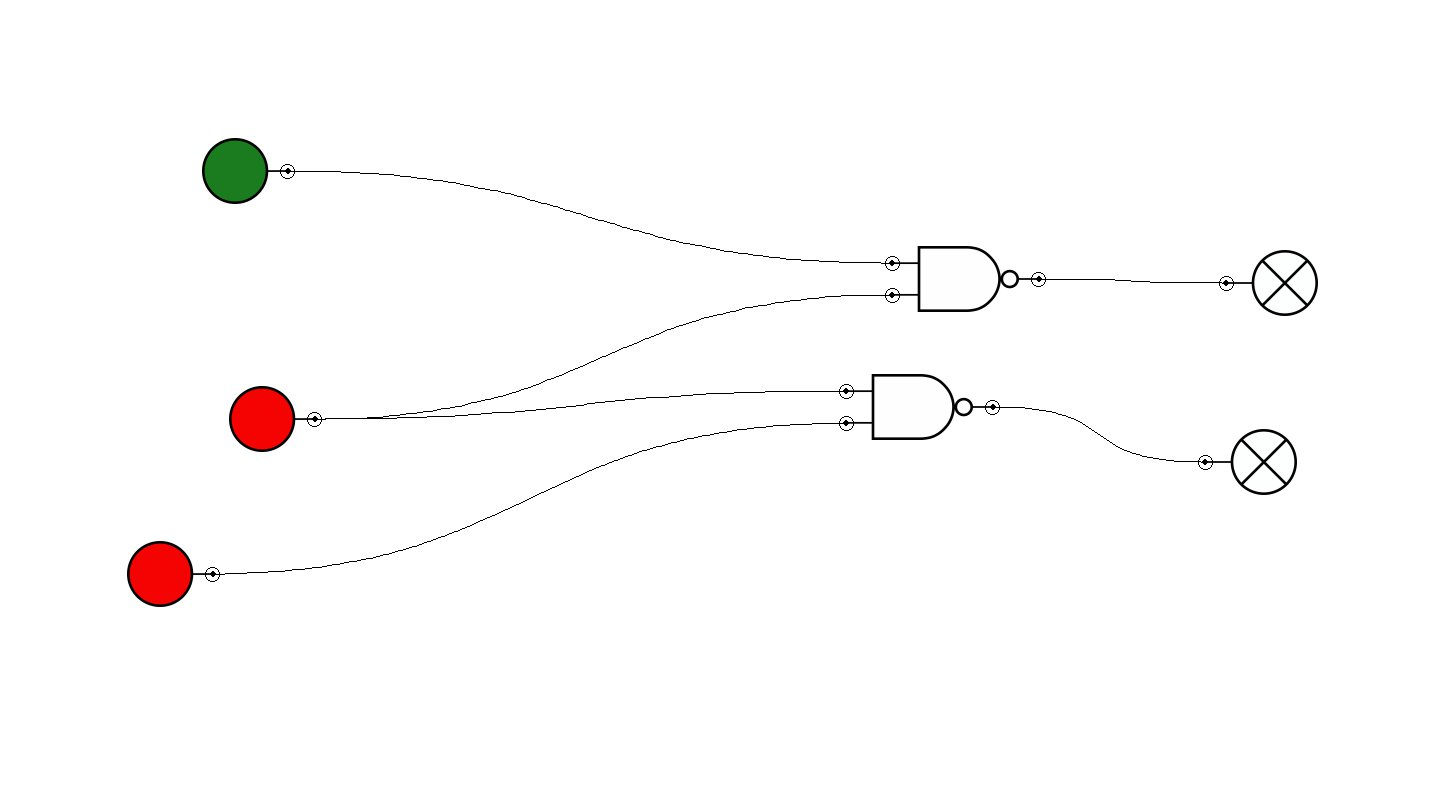bulb: (1219, 250, 1318, 316), (1198, 429, 1297, 495)
nand: (885, 246, 1046, 312), (839, 374, 1000, 440)
switch_False: (229, 386, 322, 452), (127, 541, 220, 607)
switch_True: (202, 138, 295, 204)
